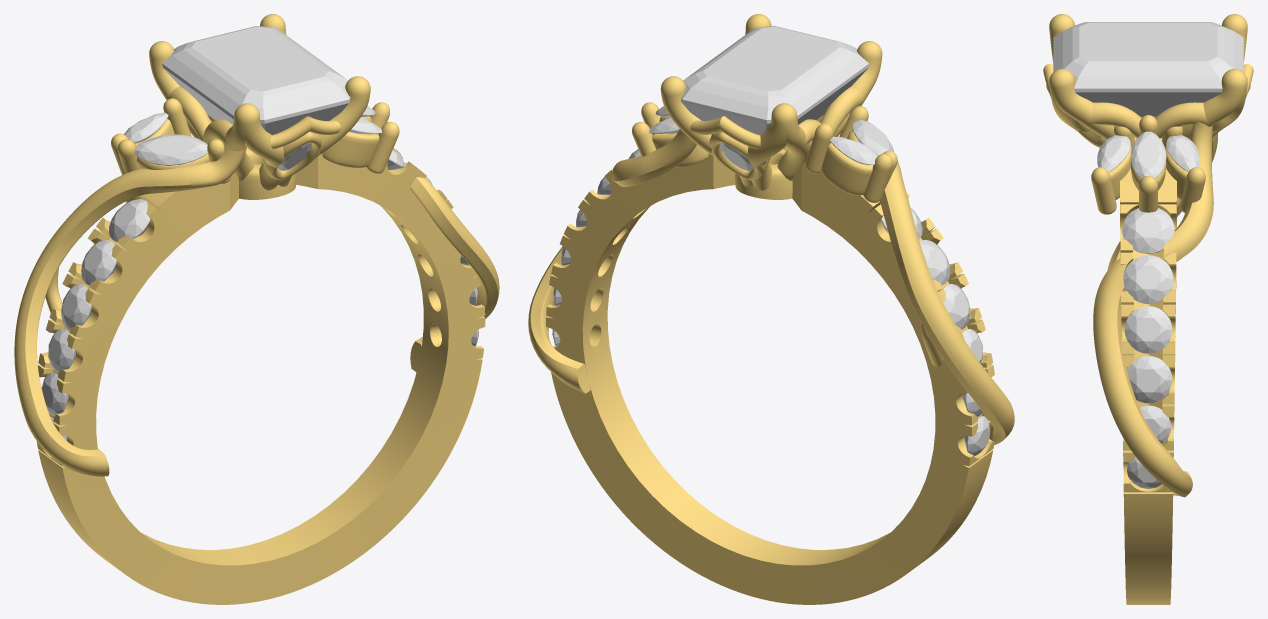
File: StephanV3combined_blender.glb
3 views of the same model, side by side, from view 1: azimuth 30°, elevation 25°; view 2: azimuth 150°, elevation 25°; view 3: azimuth 270°, elevation 25° (orthographic).
Parts seen in each view (by area): view 1: V3 Stephan YG for 3d model, V3 Stephan dia for 3d model.017, V3 Stephan dia for 3d model.010, V3 Stephan dia for 3d model.011, V3 Stephan dia for 3d model.012, V3 Stephan dia for 3d model.013, V3 Stephan dia for 3d model.014, V3 Stephan dia for 3d model.015, V3 Stephan dia for 3d model.009; view 2: V3 Stephan YG for 3d model, V3 Stephan dia for 3d model.017, V3 Stephan dia for 3d model.013, V3 Stephan dia for 3d model.012, V3 Stephan dia for 3d model.010, V3 Stephan dia for 3d model.009; view 3: V3 Stephan YG for 3d model, V3 Stephan dia for 3d model.017, V3 Stephan dia for 3d model.007, V3 Stephan dia for 3d model.008, V3 Stephan dia for 3d model.006, V3 Stephan dia for 3d model.005, V3 Stephan dia for 3d model, V3 Stephan dia for 3d model.018, V3 Stephan dia for 3d model.019, V3 Stephan dia for 3d model.004, V3 Stephan dia for 3d model.003.
Part boxes in pixels (x1,y1,x2,y2): V3 Stephan YG for 3d model: (14,14,499,604); V3 Stephan dia for 3d model.017: (162,26,350,134); V3 Stephan dia for 3d model.010: (134,134,207,165); V3 Stephan dia for 3d model.011: (109,199,150,241); V3 Stephan dia for 3d model.012: (81,240,116,285); V3 Stephan dia for 3d model.013: (61,284,91,329); V3 Stephan dia for 3d model.014: (48,329,75,372); V3 Stephan dia for 3d model.015: (41,372,68,416); V3 Stephan dia for 3d model.009: (124,112,168,143); V3 Stephan YG for 3d model: (528,14,1014,604); V3 Stephan dia for 3d model.017: (681,26,868,134); V3 Stephan dia for 3d model.013: (943,284,970,329); V3 Stephan dia for 3d model.012: (920,240,950,285); V3 Stephan dia for 3d model.010: (852,119,893,155); V3 Stephan dia for 3d model.009: (830,136,878,164); V3 Stephan YG for 3d model: (1043,14,1253,604); V3 Stephan dia for 3d model.017: (1053,22,1243,117); V3 Stephan dia for 3d model.007: (1123,255,1173,303); V3 Stephan dia for 3d model.008: (1122,208,1174,253); V3 Stephan dia for 3d model.006: (1124,306,1172,353); V3 Stephan dia for 3d model.005: (1127,356,1172,403); V3 Stephan dia for 3d model: (1130,131,1166,178); V3 Stephan dia for 3d model.018: (1097,135,1130,172); V3 Stephan dia for 3d model.019: (1166,135,1199,172); V3 Stephan dia for 3d model.004: (1139,405,1170,443); V3 Stephan dia for 3d model.003: (1127,456,1161,488).
Bounding box in the file's own units: 23.19 × 24.99 × 8.83.
